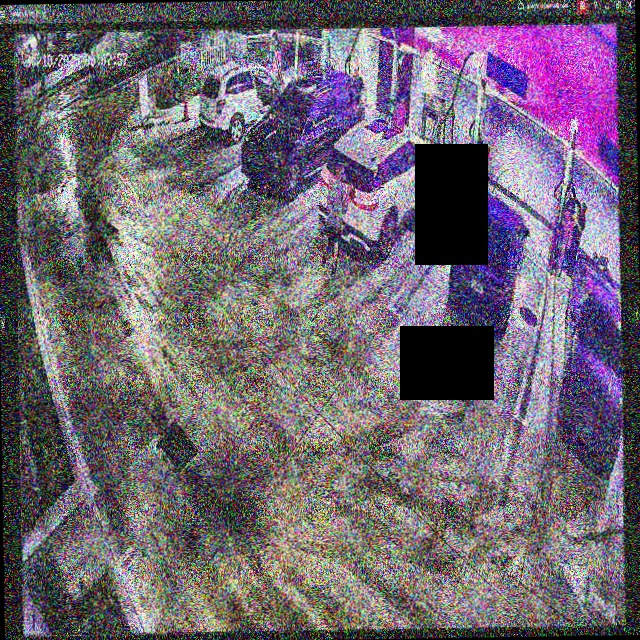Car: (319, 114, 439, 257), (242, 67, 364, 194), (445, 192, 531, 333)
